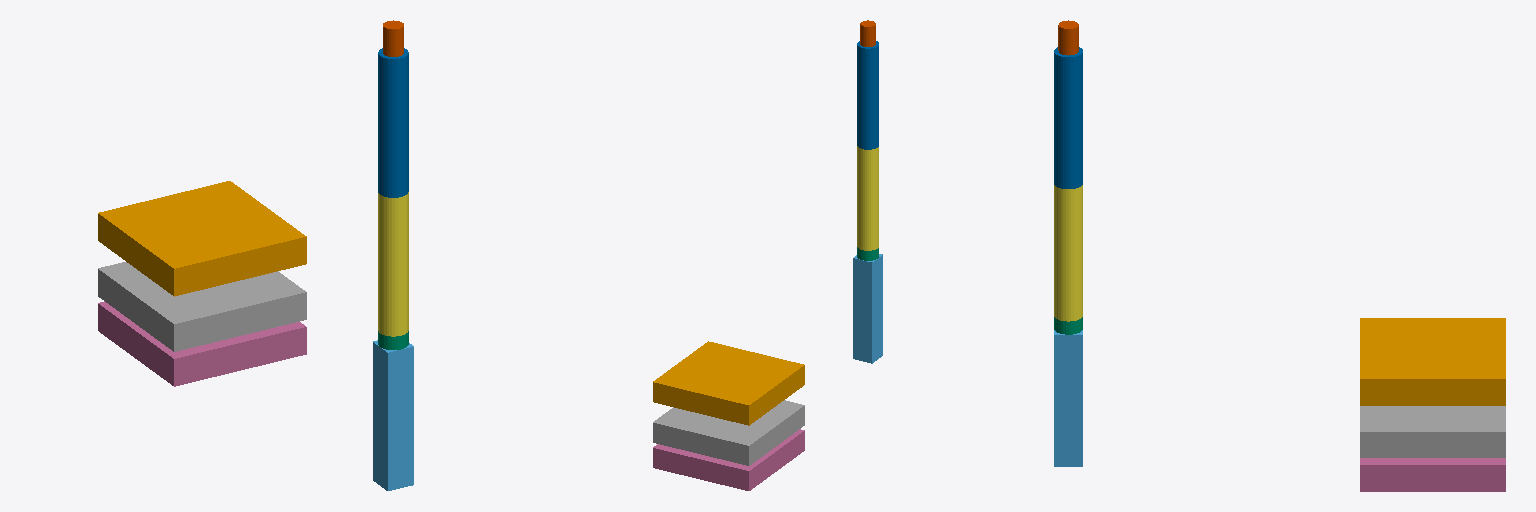
The robot description file, URDF, robot "robot_arm":
<?xml version="1.0"?>
<robot name="robot_arm">

<!-- only movable links have number in the name, like link1, link2 -->
<!-- only movable links have number in the name, like joint1, joint2 -->

<!-- world link -->
<link name="world"/>

<!-- base_link and its fixed joint -->
<joint name="joint_fix" type="fixed">
	<parent link="world"/>
	<child link="base_link"/>
</joint>

<link name="base_link">
	<collision>
		<origin xyz="0 0 0.5" rpy="0 0 0"/>
		<geometry>
			<box size="0.2 0.2 0.7"/>
		</geometry>
	</collision>

	<visual>
		<origin xyz="0 0 0.5" rpy="0 0 0"/>
		<geometry>
			<box size="0.2 0.2 1"/>
		</geometry>
	</visual>

	<inertial>
		<origin xyz="0 0 0.5" rpy="0 0 0"/>
		<mass value="1"/>
		<inertia
			ixx="1.0" ixy="0.0" ixz="0.0"
			iyy="1.0" iyz="0.0"
			izz="1.0"/>
	</inertial>
</link>

<!-- link1 and its revolute joint1 relative to base_link -->
<!-- rotating along z axis -->
<joint name="joint1" type="revolute">
	<parent link="base_link"/>
	<child link="link1"/>
	<origin xyz="0 0 1" rpy="0 0 0"/>
	<axis xyz="0 0 1"/>
	<limit effort="100" velocity="100" lower="-1.5708" upper="1.5708"/>
</joint>

<link name="link1">
	<collision>
		<origin xyz="0 0 0.05" rpy="0 0 0"/>
		<geometry>
			<cylinder length="0.1" radius="0.1"/>
		</geometry>
	</collision>

	<visual>
		<origin xyz="0 0 0.05" rpy="0 0 0"/>
		<geometry>
			<cylinder length="0.1" radius="0.1"/>
		</geometry>
	</visual>

	<inertial>
		<origin xyz="0 0 0.05" rpy="0 0 0"/>
		<mass value="1"/>
		<inertia
			ixx="0.001" ixy="0.0" ixz="0.0"
			iyy="0.001" iyz="0.0"
			izz="0.001"/>
	</inertial>
</link>

<gazebo reference="link1">
	<material>Gazebo/Grey</material>
</gazebo>

<!-- link2 and its revolute joint2 relative to link1 -->
<!-- rotating along y axis -->
<joint name="joint2" type="revolute">
	<parent link="link1"/>
	<child link="link2"/>
	<origin xyz="0 0 0.1" rpy="0 0 0"/>
	<axis xyz="0 1 0"/>
	<limit effort="100" velocity="100" lower="-0.1" upper="3.1416"/>
</joint>

<link name="link2">
	<collision>
		<origin xyz="0 0 0.5" rpy="0 0 0"/>
		<geometry>
			<cylinder length="1" radius="0.1"/>
		</geometry>
	</collision>

	<visual>
		<origin xyz="0 0 0.5" rpy="0 0 0"/>
		<geometry>
			<cylinder length="1" radius="0.1"/>
		</geometry>
	</visual>

	<inertial>
		<origin xyz="0 0 0.5" rpy="0 0 0"/>
		<mass value="1"/>
		<inertia
			ixx="0.1" ixy="0.0" ixz="0.0"
			iyy="0.1" iyz="0.0"
			izz="0.005"/>
	</inertial>
</link>

<gazebo reference="link2">
	<material>Gazebo/Grey</material>
</gazebo>

<!-- link3 and its revolute joint3 relative to link2 -->
<!-- rotating along y axis -->
<joint name="joint3" type="revolute">
	<parent link="link2"/>
	<child link="link3"/>
	<origin xyz="0 0 1" rpy="0 0 0"/>
	<axis xyz="0 1 0"/>
	<limit effort="100" velocity="100" lower="-1.5708" upper="1.5708"/>
</joint>

<link name="link3">
	<collision>
		<origin xyz="0 0 0.5" rpy="0 0 0"/>
		<geometry>
			<cylinder length="1" radius="0.1"/>
		</geometry>
	</collision>

	<visual>
		<origin xyz="0 0 0.5" rpy="0 0 0"/>
		<geometry>
			<cylinder length="1" radius="0.1"/>
		</geometry>
	</visual>

	<inertial>
		<origin xyz="0 0 0.5" rpy="0 0 0"/>
		<mass value="1"/>
		<inertia
			ixx="0.1" ixy="0.0" ixz="0.0"
			iyy="0.1" iyz="0.0"
			izz="0.005"/>
	</inertial>
</link>

<gazebo reference="link3">
	<material>Gazebo/Grey</material>
</gazebo>

<!-- link4 and its revolute joint4 relative to link3 -->
<!-- rotating along y axis -->
<joint name="joint4" type="revolute">
	<parent link="link3"/>
	<child link="link4"/>
	<origin xyz="0 0 1" rpy="0 0 0"/>
	<axis xyz="1 0 0"/>
	<limit effort="100" velocity="100" lower="-1.5708" upper="1.5708"/>
</joint>

<link name="link4">
	<collision>
		<origin xyz="0 0 0" rpy="0 0 0"/>
		<geometry>
			<cylinder length="0.4" radius="0.07"/>
		</geometry>
	</collision>

	<visual>
		<origin xyz="0 0 0" rpy="0 0 0"/>
		<geometry>
			<cylinder length="0.4" radius="0.07"/>
		</geometry>
	</visual>

	<inertial>
		<origin xyz="0 0 0" rpy="0 0 0"/>
		<mass value="0.4"/>
		<inertia
			ixx="0.05" ixy="0.0" ixz="0.0"
			iyy="0.002" iyz="0.0"
			izz="0.05"/>
	</inertial>
</link>

<gazebo reference="link4">
	<material>Gazebo/Red</material>
</gazebo>


<!-- base_link and its fixed joint -->
<joint name="joint_fix_p" type="fixed">
  <parent link="world"/>
  <child link="base_link_p"/>
</joint>

<link name="base_link_p">
  <collision>
    <origin xyz="0 2.5 0.1" rpy="0 0 0"/>
    <geometry>
      <box size="1 1 0.2"/>
    </geometry>
  </collision>

  <visual>
    <origin xyz="0 2.5 0.1" rpy="0 0 0"/>
    <geometry>
      <box size="1 1 0.2"/>
    </geometry>
  </visual>

  <inertial>
    <origin xyz="0 2.5 0.5" rpy="0 0 0"/>
    <mass value="1"/>
    <inertia
      ixx="1.0" ixy="0.0" ixz="0.0"
      iyy="1.0" iyz="0.0"
      izz="1.0"/>
  </inertial>
</link>

<!-- link1 and its revolute joint1 relative to base_link -->
<!-- rotating along z axis -->
<joint name="joint5" type="revolute">
  <parent link="base_link_p"/>
  <child link="link1_p"/>
  <origin xyz="0 2.5 0.25" rpy="0 0 0"/>
  <axis xyz="0 0 1"/>
  <limit effort="100" velocity="100" lower="-1.5708" upper="1.5708"/>
</joint>

<link name="link1_p">
  <collision>
    <origin xyz="0 0 0.1" rpy="0 0 0"/>
    <geometry>
      <box size="1 1 0.2"/>
    </geometry>
  </collision>

  <visual>
    <origin xyz="0 0 0.1" rpy="0 0 0"/>
    <geometry>
      <box size="1 1 0.2"/>
    </geometry>
  </visual>

  <inertial>
    <origin xyz="0 0 0.05" rpy="0 0 0"/>
    <mass value="1"/>
    <inertia
      ixx="0.001" ixy="0.0" ixz="0.0"
      iyy="0.001" iyz="0.0"
      izz="0.001"/>
  </inertial>
</link>

<gazebo reference="link1_p">
  <material>Gazebo/Grey</material>
</gazebo>

<joint name="joint_box" type="fixed">
  <parent link="link1_p"/>
  <child link="box"/>
</joint>

<link name="box">
  <collision>
    <origin xyz="0 0 0.5" rpy="0 0 0"/>
    <geometry>
      <box size="1 1 0.2"/>
    </geometry>
  </collision>

  <visual>
    <origin xyz="0 0 0.5" rpy="0 0 0"/>
    <geometry>
      <box size="1 1 0.2"/>
    </geometry>
  </visual>

  <inertial>
    <origin xyz="0 0 0.05" rpy="0 0 0"/>
    <mass value="1"/>
    <inertia
      ixx="0.001" ixy="0.0" ixz="0.0"
      iyy="0.001" iyz="0.0"
      izz="0.001"/>
  </inertial>
</link>

<gazebo reference="box">
  <material>Gazebo/Grey</material>
</gazebo>


</robot>

--- What the picture shows (computed from the rendered views, not written in the file) ---
Views: 3 orthographic renders of the robot side by side, from view 1: azimuth 30°, elevation 25°; view 2: azimuth 150°, elevation 25°; view 3: azimuth 270°, elevation 25°.
Model robot_arm with 9 links and 8 joints (5 revolute, 3 fixed), rooted at world, posed all joints at 0.
Links seen in each view (by area): view 1: box, link1_p, base_link_p, base_link, link3, link2, link4; view 2: box, link1_p, base_link_p, base_link, link3, link2; view 3: box, link1_p, base_link_p, link3, base_link, link2, link4.
Link boxes in pixels (bbox=[...]): box: bbox=[98, 181, 306, 296]; link1_p: bbox=[98, 262, 306, 351]; base_link_p: bbox=[98, 301, 306, 386]; base_link: bbox=[373, 340, 413, 490]; link3: bbox=[378, 48, 408, 197]; link2: bbox=[378, 192, 408, 336]; link4: bbox=[383, 20, 403, 56]; box: bbox=[653, 341, 804, 425]; link1_p: bbox=[653, 400, 804, 465]; base_link_p: bbox=[653, 429, 804, 490]; base_link: bbox=[853, 254, 882, 363]; link3: bbox=[857, 41, 878, 149]; link2: bbox=[857, 146, 878, 250]; box: bbox=[1360, 318, 1505, 405]; link1_p: bbox=[1360, 406, 1505, 457]; base_link_p: bbox=[1360, 458, 1505, 491]; link3: bbox=[1054, 47, 1082, 188]; base_link: bbox=[1054, 330, 1082, 466]; link2: bbox=[1054, 185, 1082, 321]; link4: bbox=[1058, 20, 1078, 55].
Bounding box of the posed robot: 1 × 3.1 × 3.3 m (x, y, z).
Geometry: primitives only (box / cylinder / sphere), no mesh files.